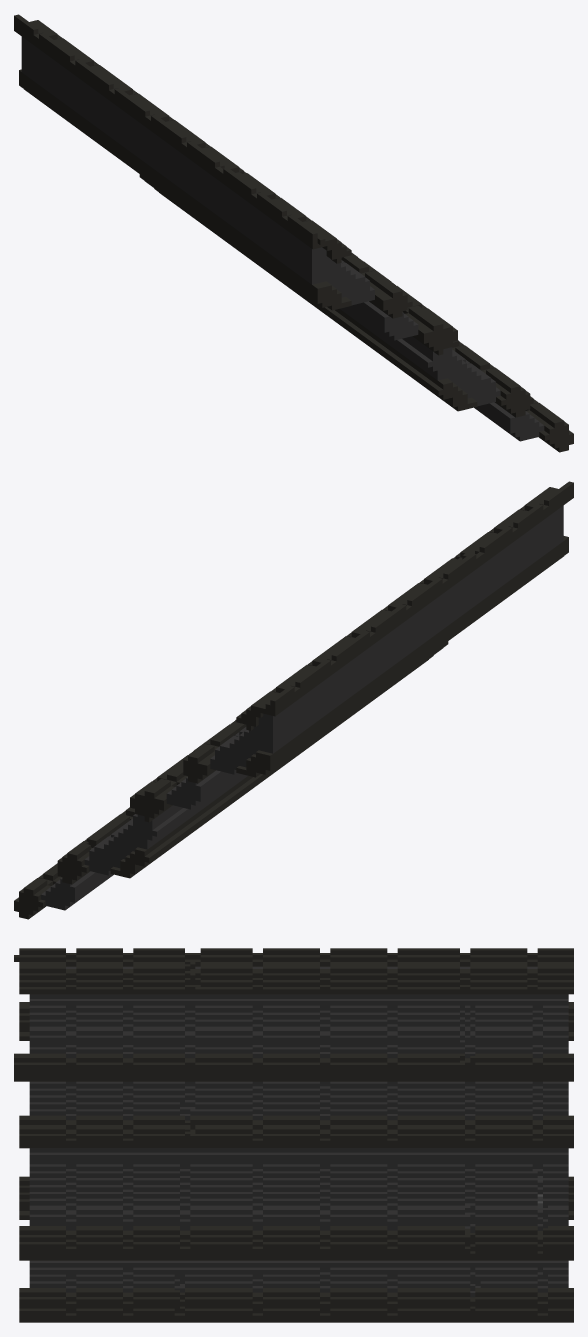
The model's file is RoofEmptyStone.obj.
3 views of the same model, one above another, from view 1: azimuth 30°, elevation 25°; view 2: azimuth 150°, elevation 25°; view 3: azimuth 270°, elevation 25° (orthographic). The views are drawn at different scales.
Bounding box in the file's own units: 5.4 × 5.5 × 10.8.
1 material, 1 textured.
